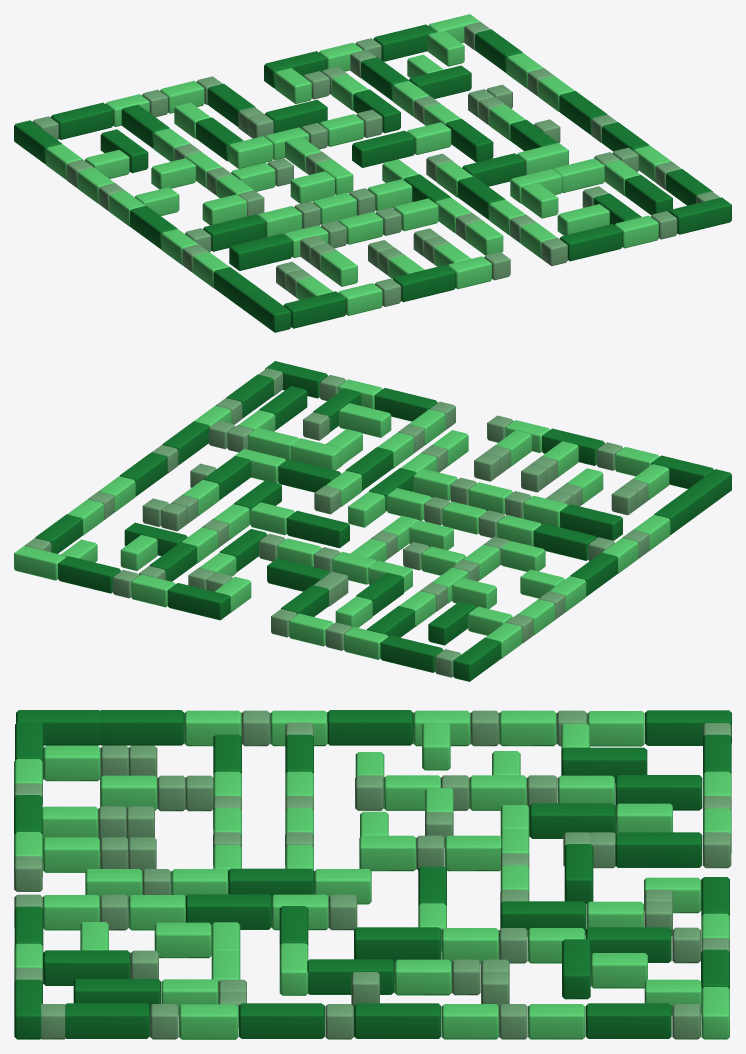
The model's file is SM_Maze_01b.fbx.
3 renders of one model, top to bottom at view 1: azimuth 30°, elevation 25°; view 2: azimuth 150°, elevation 25°; view 3: azimuth 270°, elevation 25°, orthographic. The views are drawn at different scales.
Parts seen in each view (by area): view 1: cespuglio_low781, cespuglio_low685, cespuglio_low676; view 2: cespuglio_low781, cespuglio_low685, cespuglio_low676; view 3: cespuglio_low781, cespuglio_low685, cespuglio_low676.
Part boxes in pixels (x1,y1,x2,y2): cespuglio_low781: (46,14,671,315); cespuglio_low685: (14,24,731,332); cespuglio_low676: (32,22,720,306); cespuglio_low781: (14,379,670,659); cespuglio_low685: (35,361,731,681); cespuglio_low676: (24,368,649,677); cespuglio_low781: (14,710,731,1039); cespuglio_low685: (14,710,731,1039); cespuglio_low676: (14,710,731,1039).
Bounding box in the file's own units: 2523 × 102 × 2503.
